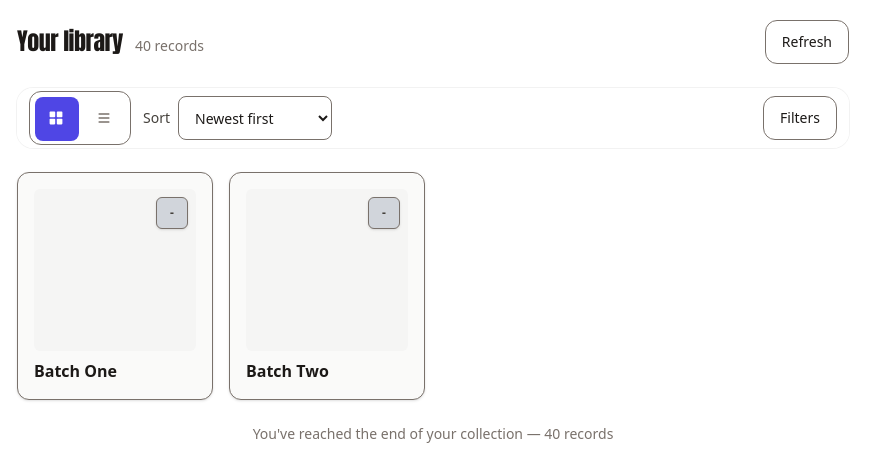
Test case: Library header and live filters (feature 068, US3) › Refresh restarts the list from batch 1 (FR-014)
Expected: the text "Batch One" is shown, top-left (34, 360), bottom-right (117, 382)
Expected: the text "Batch Two" is shown, top-left (246, 360), bottom-right (329, 382)
Click the button "Refresh".
click(807, 42)  # box top-left (765, 20), bottom-right (849, 64)
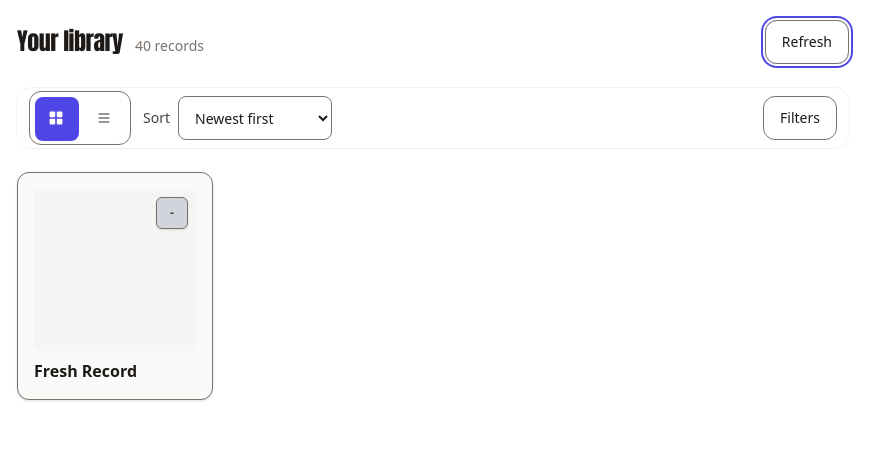
Result: the text "Fresh Record" is shown at top-left (34, 360), bottom-right (137, 382)
Result: the link "Batch Two" is gone
